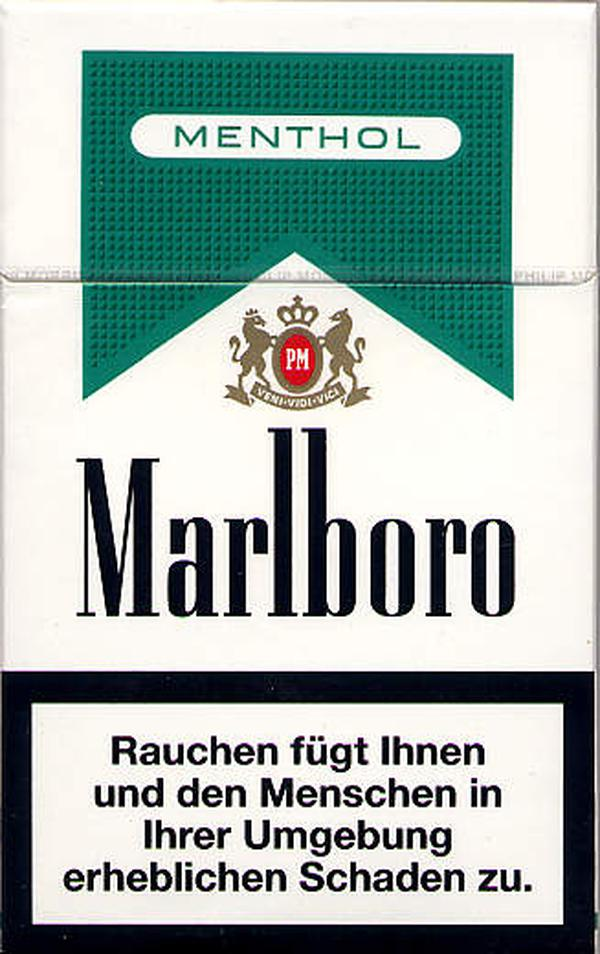marlboro_mentol: (1, 10, 594, 953)
